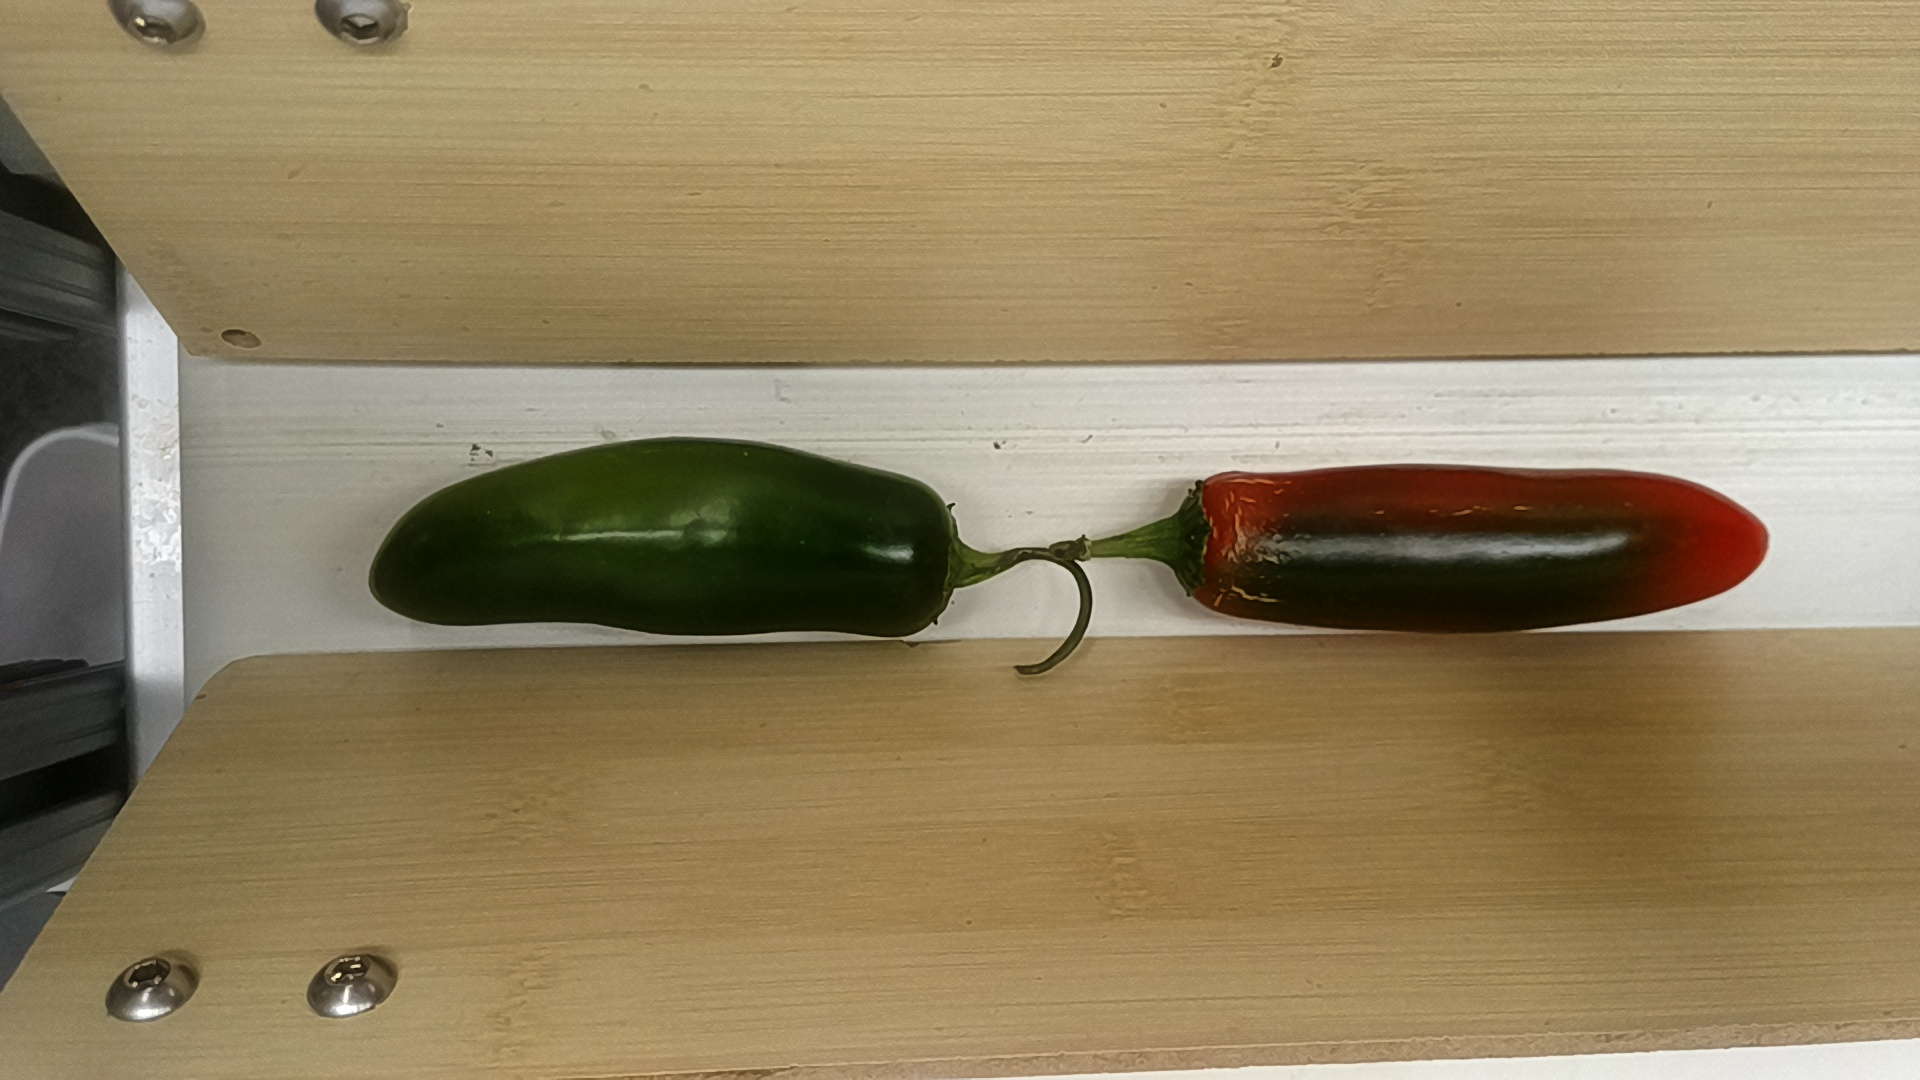Cut Point: (905, 469, 978, 646), (1172, 463, 1240, 621)
